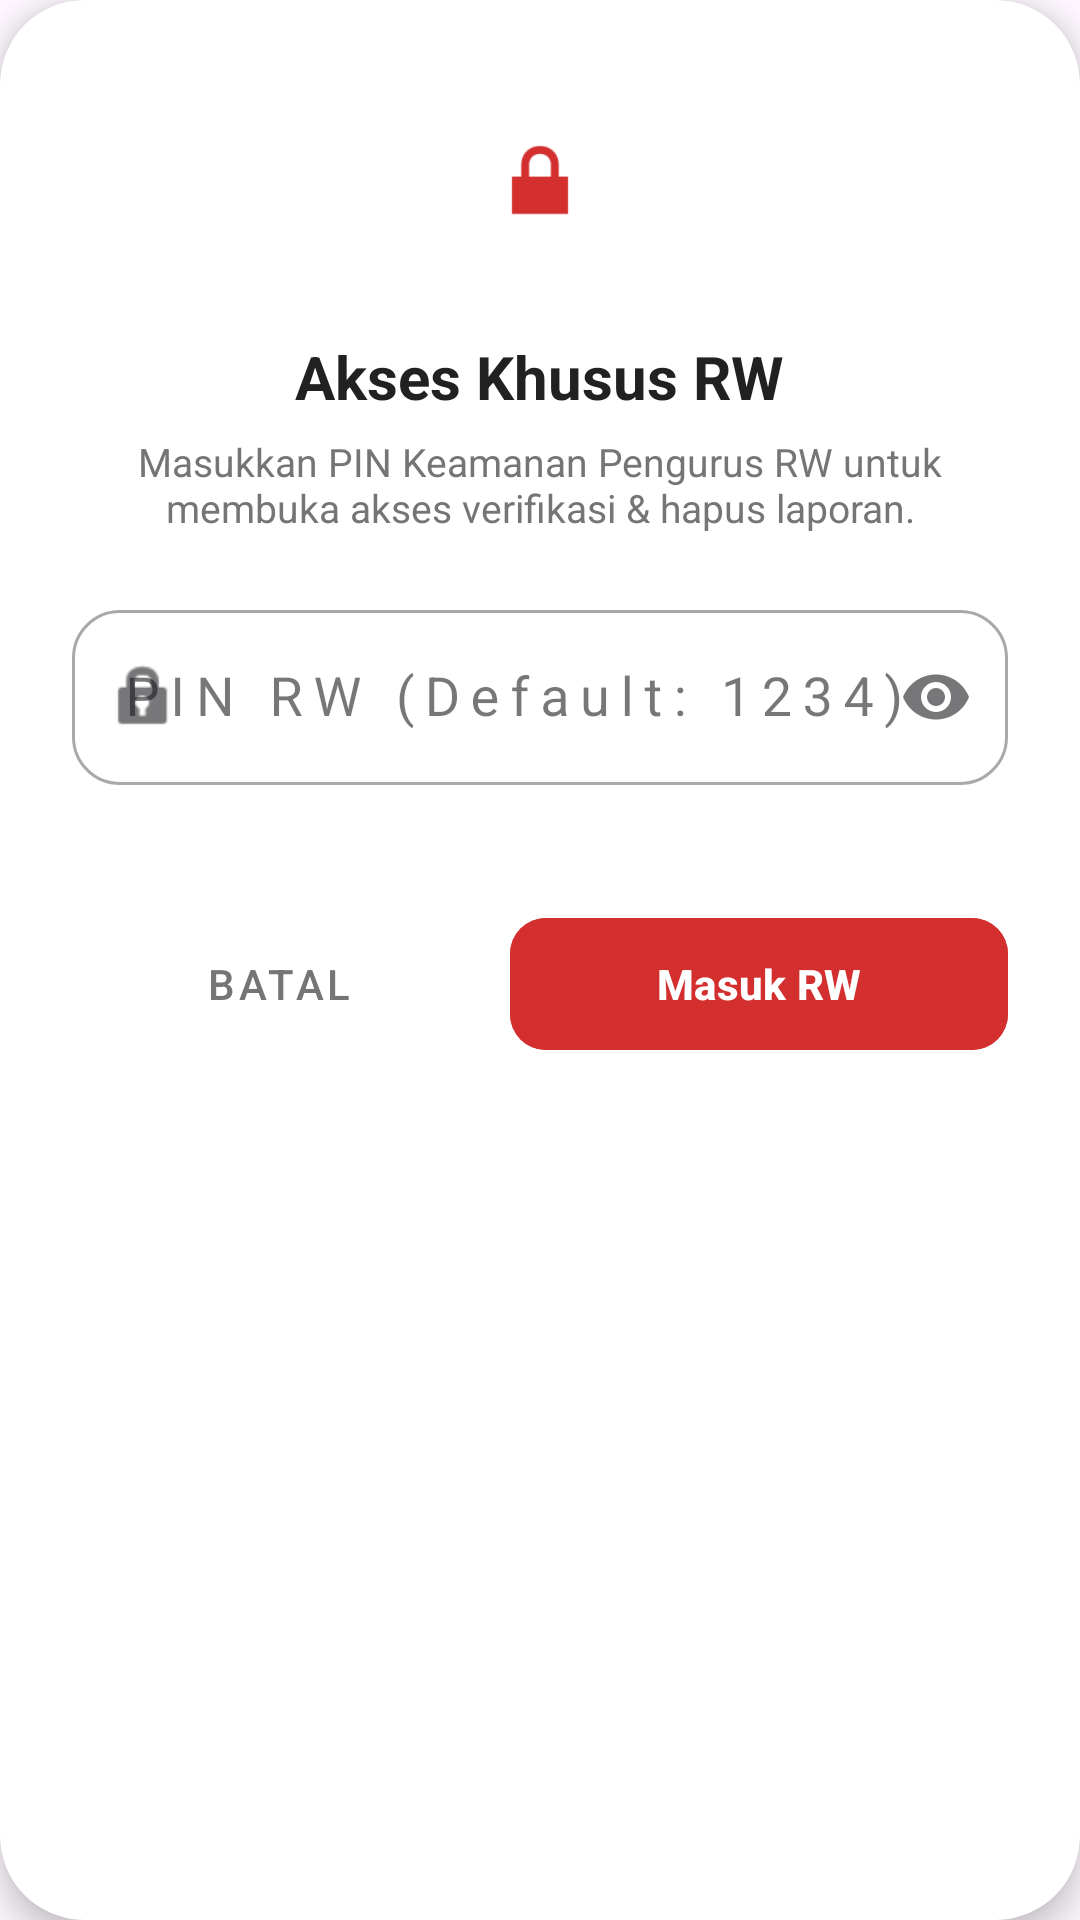

Named icons in this screenshot (1080w x 1920h) and their centers, (x,y):
lock: (540,180)
